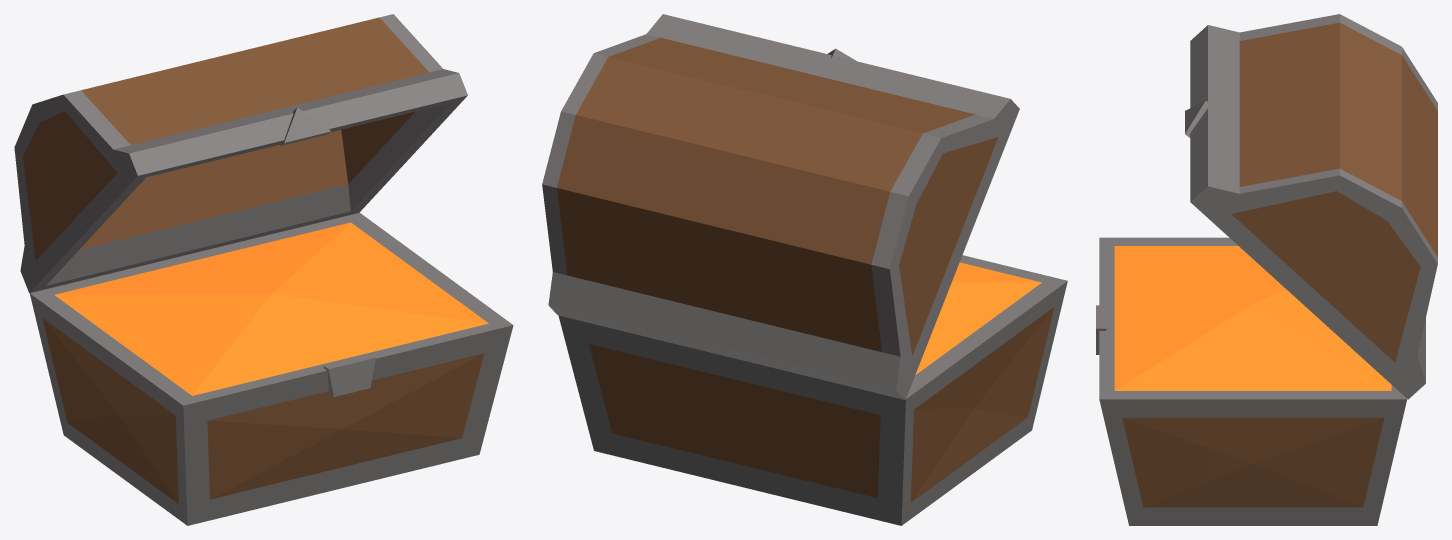
Rendered from fantasy_chest.fbx.
3 renders of one model, left to right at view 1: azimuth 30°, elevation 25°; view 2: azimuth 150°, elevation 25°; view 3: azimuth 270°, elevation 25°, orthographic. The views are drawn at different scales.
Visible parts, largest first — view 1: chest_base, chest_top; view 2: chest_top, chest_base; view 3: chest_base, chest_top.
Part boxes in pixels (x1=…): chest_base: x1=30, y1=212, x2=513, y2=525; chest_top: x1=14, y1=14, x2=467, y2=293; chest_top: x1=542, y1=14, x2=1019, y2=399; chest_base: x1=558, y1=255, x2=1067, y2=525; chest_base: x1=1096, y1=237, x2=1407, y2=525; chest_top: x1=1185, y1=14, x2=1437, y2=399.
Bounding box in the file's own units: 189 × 200 × 169.
